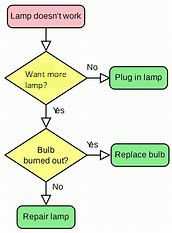arrow: (40, 180, 52, 206), (40, 26, 52, 51), (85, 71, 110, 83), (41, 103, 52, 129), (85, 149, 110, 160)
decision: (3, 126, 88, 183), (3, 49, 89, 105)
process: (6, 3, 87, 30), (109, 142, 172, 169), (15, 203, 76, 230), (108, 65, 171, 91)
text: (23, 69, 68, 91), (23, 145, 68, 165), (9, 11, 81, 21), (114, 72, 164, 83), (113, 150, 167, 160), (21, 211, 70, 222), (51, 105, 65, 115), (52, 182, 65, 191), (86, 140, 98, 149), (86, 62, 98, 70)
